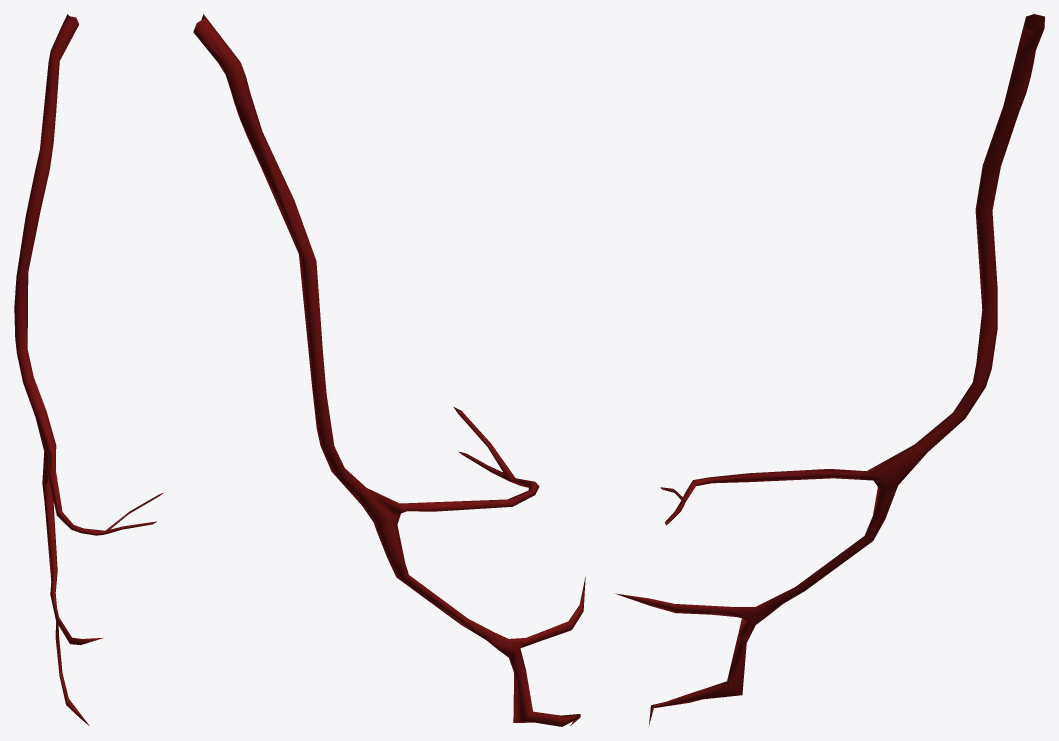
The model's file is L digitales medialis.fbx.
The picture shows the model from 3 angles, left to right: view 1: azimuth 30°, elevation 25°; view 2: azimuth 150°, elevation 25°; view 3: azimuth 270°, elevation 25°; orthographic projection. The views are drawn at different scales.
Parts seen in each view (by area): view 1: L digitales medialis, L digitales medialis low; view 2: L digitales medialis, L digitales medialis low; view 3: L digitales medialis, L digitales medialis low.
Boxes of the visible parts, x1,y1,x2,y2 form: L digitales medialis: [14, 14, 163, 725]; L digitales medialis low: [16, 18, 135, 699]; L digitales medialis: [197, 14, 585, 726]; L digitales medialis low: [193, 20, 578, 726]; L digitales medialis: [615, 17, 1044, 726]; L digitales medialis low: [658, 14, 1044, 706].
Bounding box in the file's own units: 2.35 × 9.46 × 4.66.
